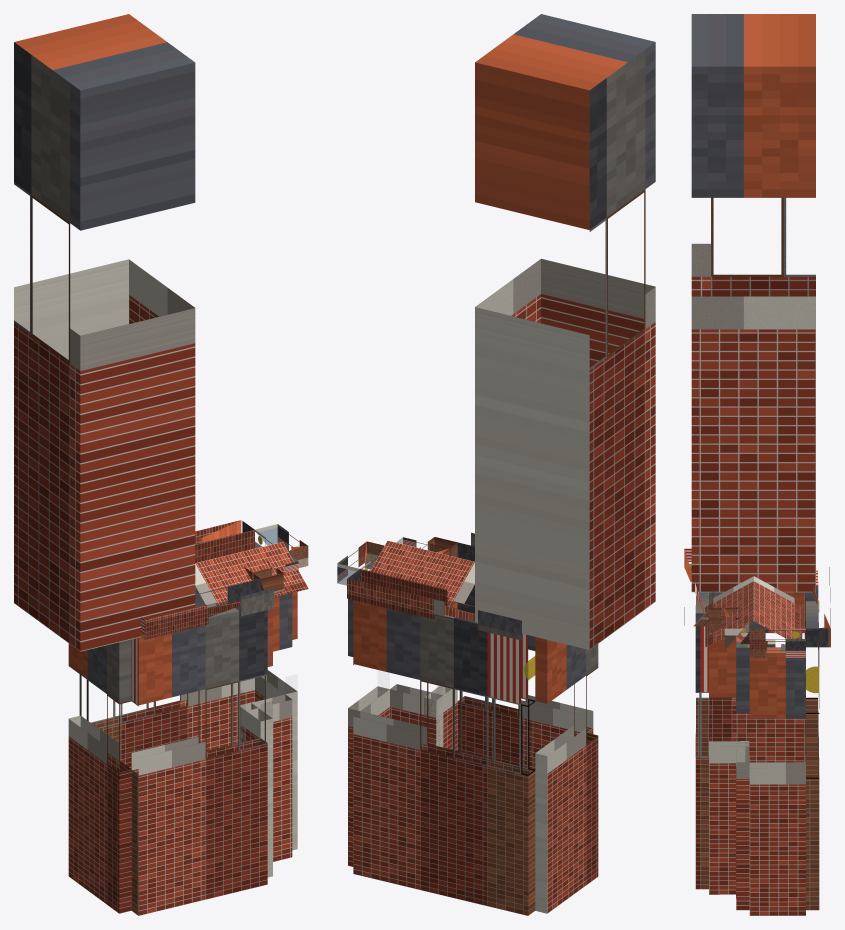
3 renders of one model, left to right at view 1: azimuth 30°, elevation 25°; view 2: azimuth 150°, elevation 25°; view 3: azimuth 270°, elevation 25°, orthographic. The views are drawn at different scales.
Parts seen in each view (by area): view 1: 1107169178__chimney_0_xb, 1107169178__wall_2_xb, 1107169178__wall_3_xb, 1107169178__wall_4_xb, 1107169178__wall_0_xb, 1107169178_roof_-1_xb, 1107169178__cornice_2, 1107169178__wall_1_xb, 1107169178__wall_5_xb, 1107169178__cornice_4, 1107169178__cornice_5; view 2: 1107169178__chimney_0_xb, 1107169178__wall_4_xb, 1107169178__wall_3_xb, 1107169178__wall_2_xb, 1107169178__cornice_4, 1107169178_roof_1_xb, 1107169178__wall_5_xb, 1107169178__wall_0_xb, 1107169178__wall_1_xb, 1107169178__cornice_5; view 3: 1107169178__chimney_0_xb, 1107169178__wall_5_xb, 1107169178__wall_1_xb, 1107169178__wall_3_xb, 1107169178__wall_4_xb, 1107169178__wall_2_xb, 1107169178__wall_0_xb, 1107169178_roof_1_xb, 1107169178_roof_-1_xb, 1107169178__cornice_5, 1107169178__cornice_4, 1107169178__cornice_2 (+2 smaller).
Part boxes in pixels (x1,y1,x2,y2): 1107169178__chimney_0_xb: (14, 14, 195, 651); 1107169178__wall_2_xb: (131, 606, 267, 915); 1107169178__wall_3_xb: (68, 639, 131, 913); 1107169178__wall_4_xb: (79, 586, 254, 768); 1107169178__wall_0_xb: (240, 593, 292, 861); 1107169178_roof_-1_xb: (195, 542, 308, 605); 1107169178__cornice_2: (141, 579, 273, 639); 1107169178__wall_1_xb: (240, 609, 272, 877); 1107169178__wall_5_xb: (255, 591, 297, 850); 1107169178__cornice_4: (195, 520, 254, 562); 1107169178__cornice_5: (255, 524, 308, 567); 1107169178__chimney_0_xb: (475, 14, 655, 649); 1107169178__wall_4_xb: (353, 600, 535, 915); 1107169178__wall_3_xb: (535, 637, 598, 913); 1107169178__wall_2_xb: (457, 585, 593, 769); 1107169178__cornice_4: (347, 569, 521, 640); 1107169178_roof_1_xb: (371, 540, 474, 607); 1107169178__wall_5_xb: (348, 568, 389, 866); 1107169178__wall_0_xb: (390, 684, 443, 747); 1107169178__wall_1_xb: (424, 602, 457, 750); 1107169178__cornice_5: (337, 541, 384, 585); 1107169178__chimney_0_xb: (691, 14, 815, 592); 1107169178__wall_5_xb: (749, 647, 805, 915); 1107169178__wall_1_xb: (709, 626, 749, 894); 1107169178__wall_3_xb: (709, 592, 804, 762); 1107169178__wall_4_xb: (804, 570, 819, 910); 1107169178__wall_2_xb: (695, 592, 709, 889); 1107169178__wall_0_xb: (736, 632, 749, 910); 1107169178_roof_1_xb: (754, 576, 802, 638); 1107169178_roof_-1_xb: (705, 576, 753, 647); 1107169178__cornice_5: (749, 628, 805, 657); 1107169178__cornice_4: (805, 567, 830, 647); 1107169178__cornice_2: (684, 548, 708, 626).
Bounding box in the file's own units: 0.3377 × 1.05 × 0.177.
Materials: 1 (1 with a texture image).
